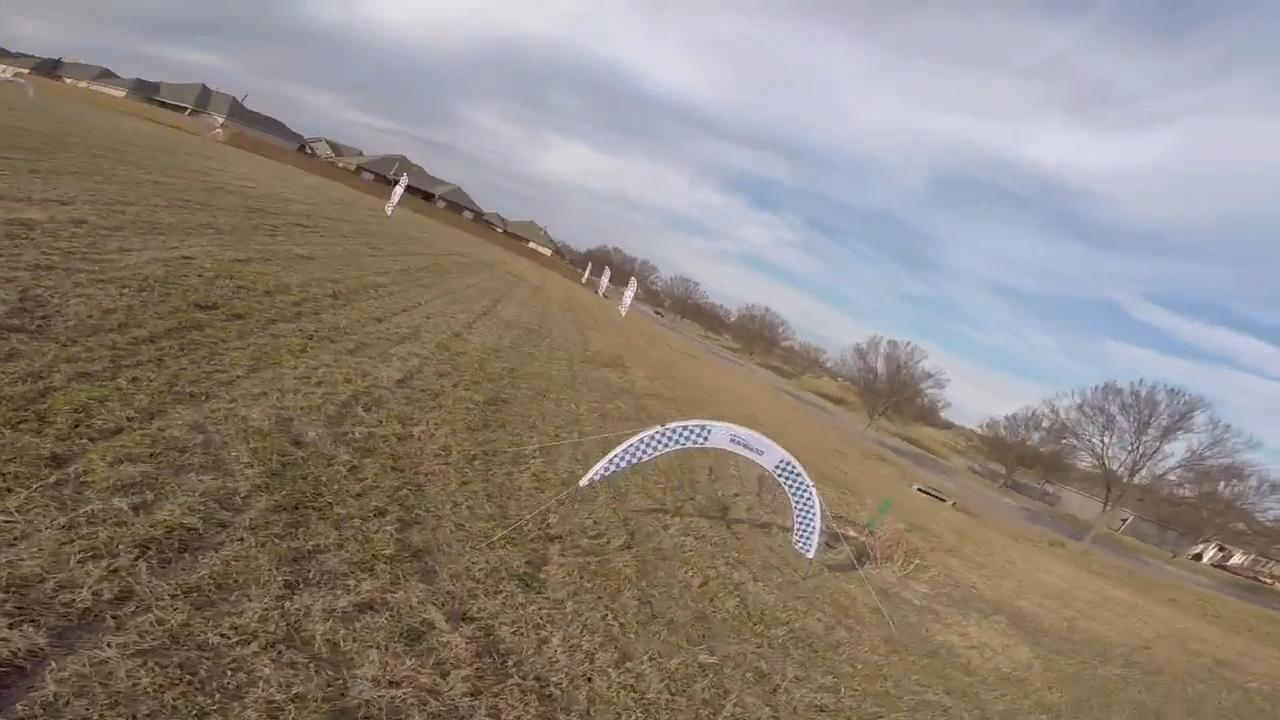gate: (579, 419, 822, 571)
